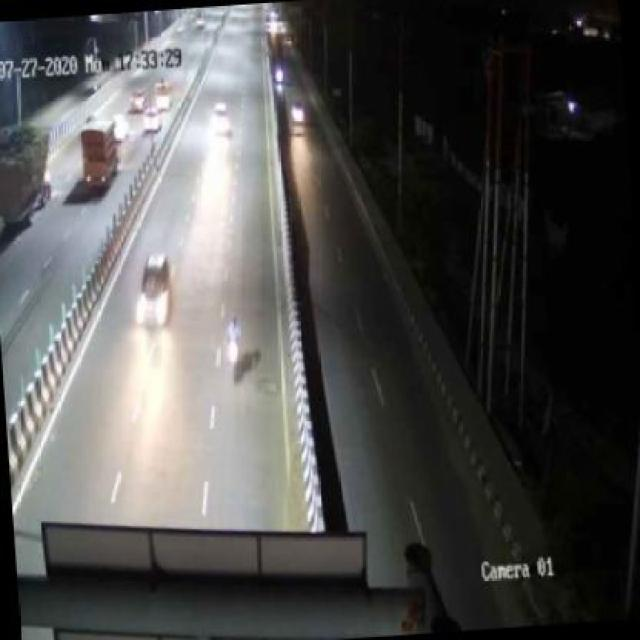car: (130, 251, 178, 329), (288, 95, 310, 134), (209, 100, 229, 137)
